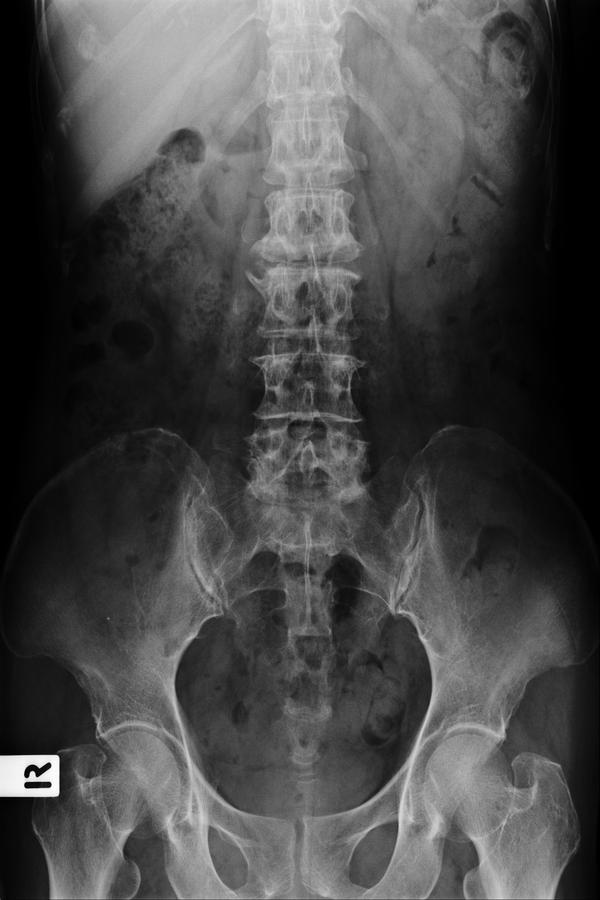not lumbar scoliosis: (249, 162, 368, 551)
